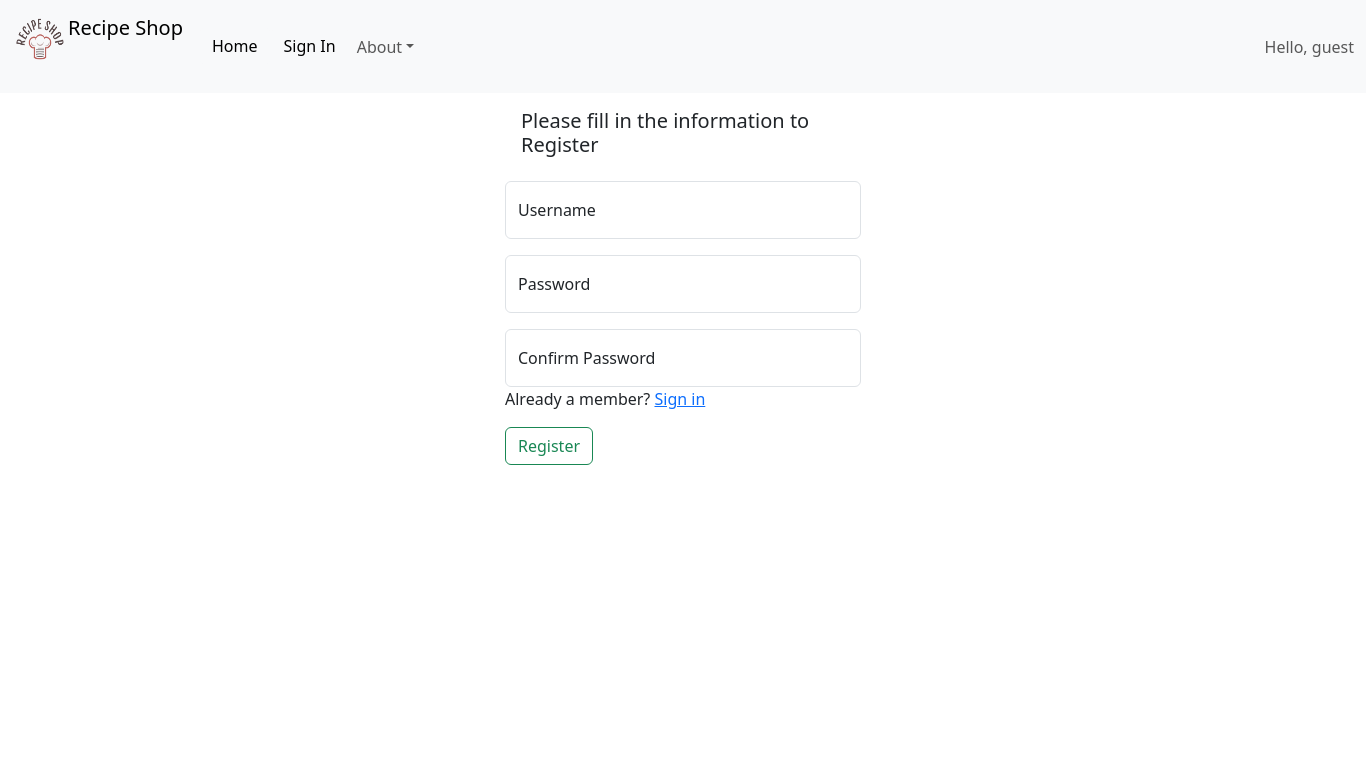
Test: Register page UI functionality › Repeated username cannot be registered
Type "Hello123" into the field with test id "r_username". click: point(683, 210)
box: x1=505 y1=181 x2=861 y2=239
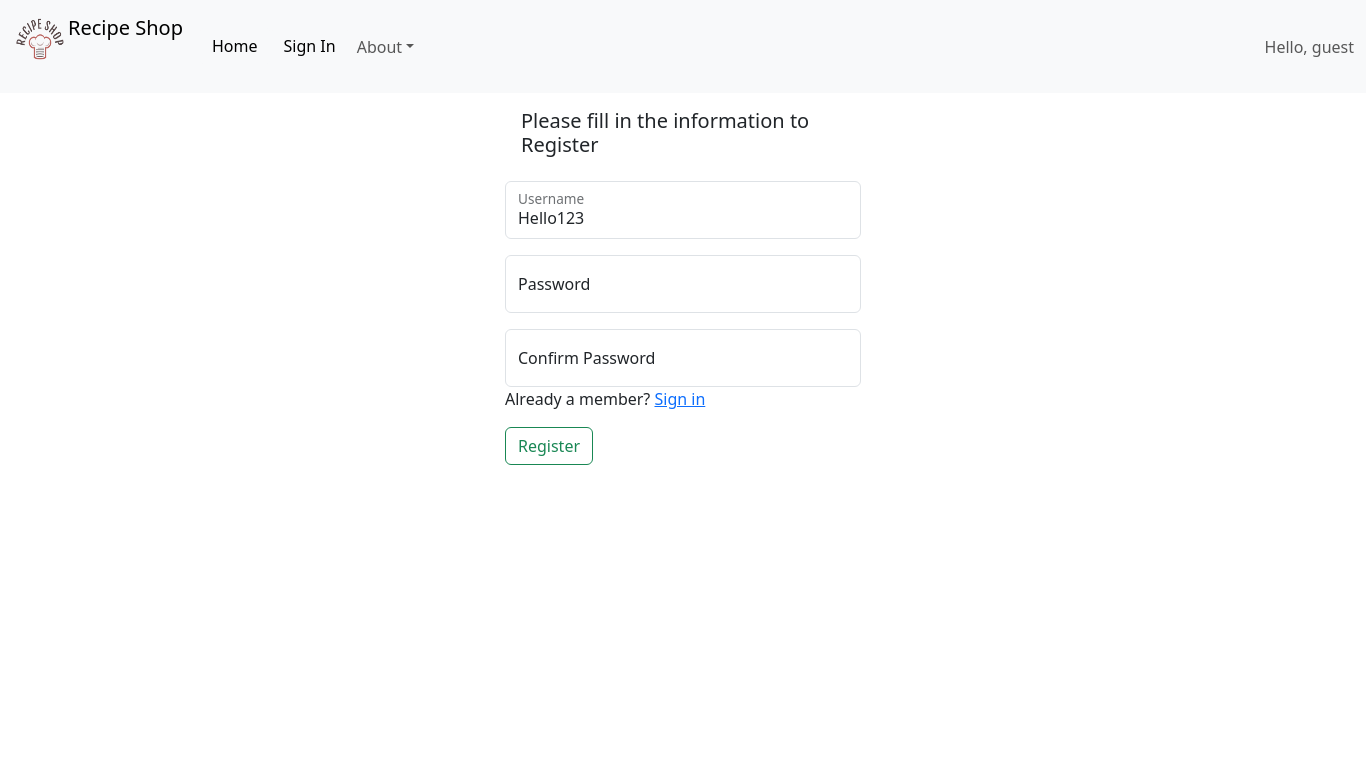
Type "Hello123" into the password field with test id "r_password". click: point(683, 284)
box: x1=505 y1=255 x2=861 y2=313
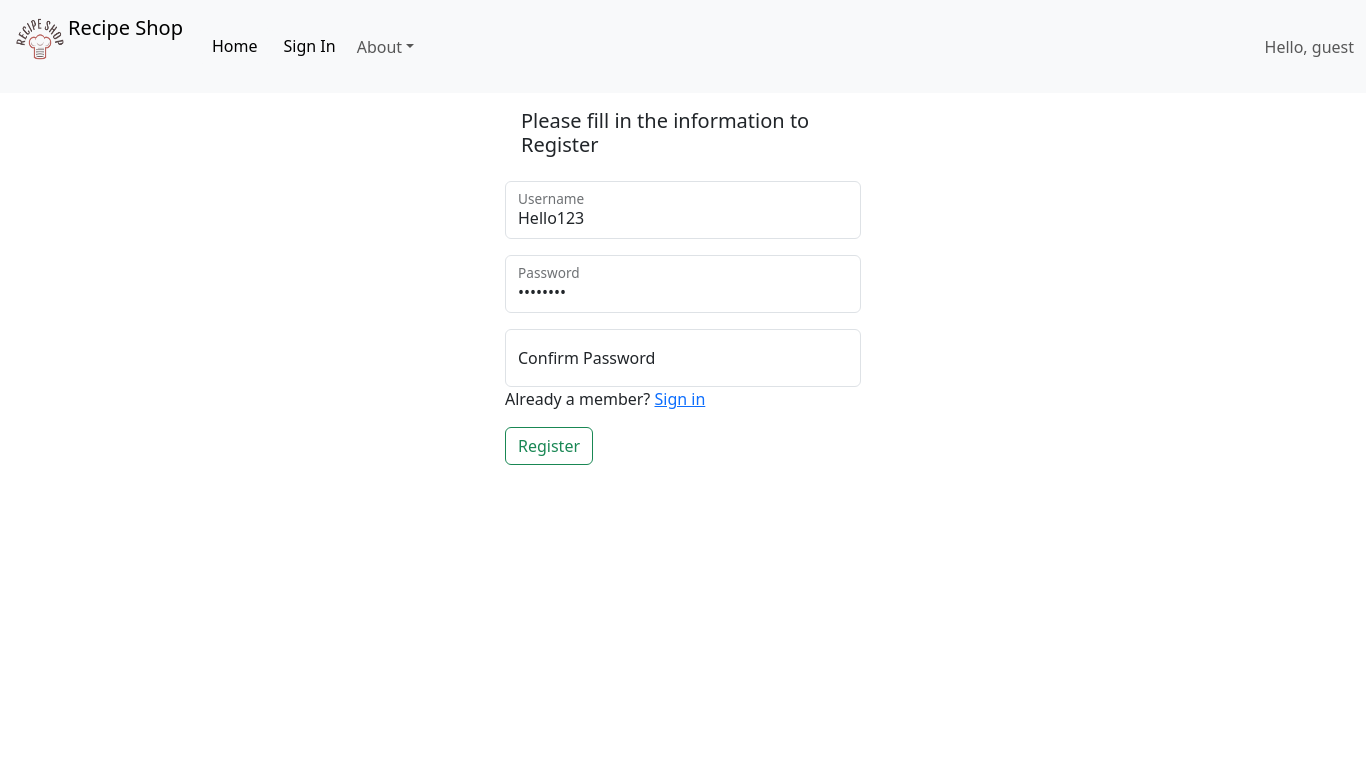
Type "Hello123" into the password field with test id "repeat_password". click: point(683, 358)
box: x1=505 y1=329 x2=861 y2=387
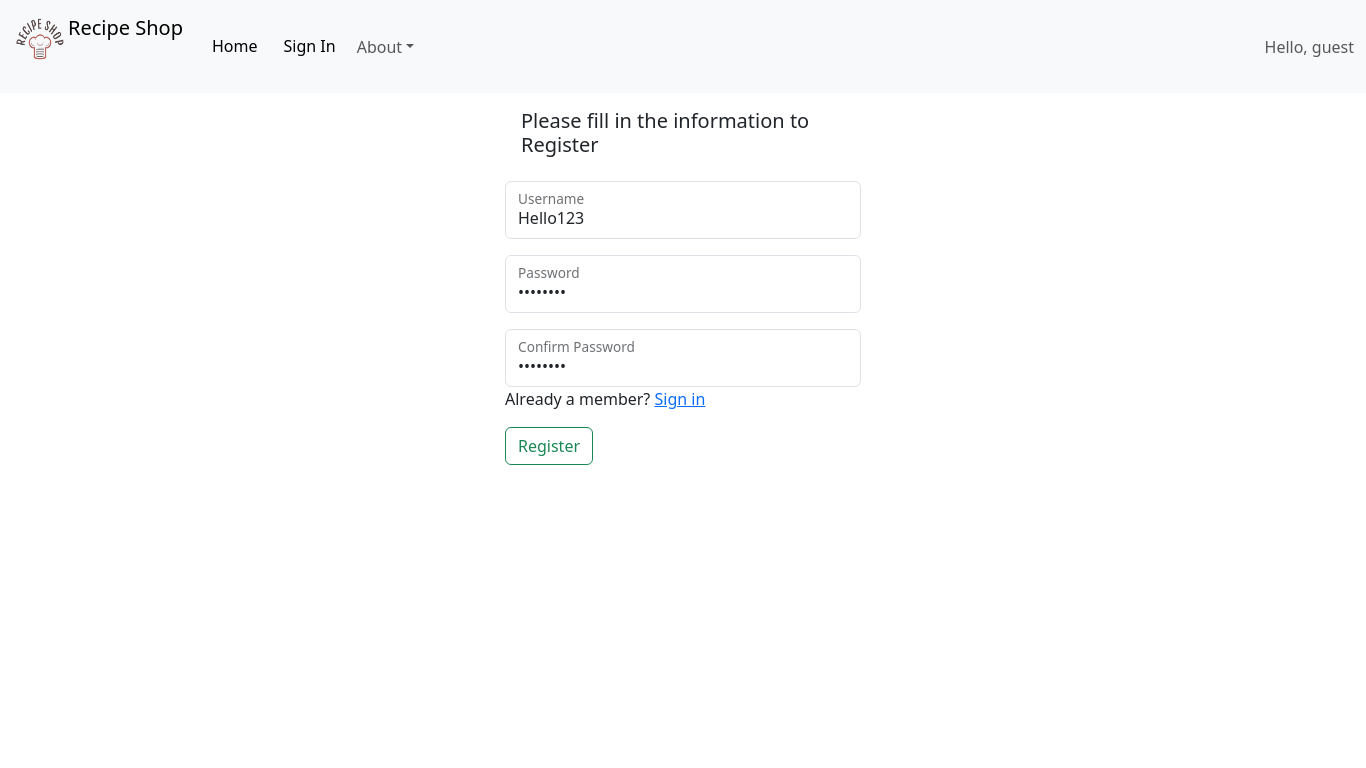
Click the button "Register". click: point(549, 446)
box: x1=505 y1=427 x2=593 y2=465
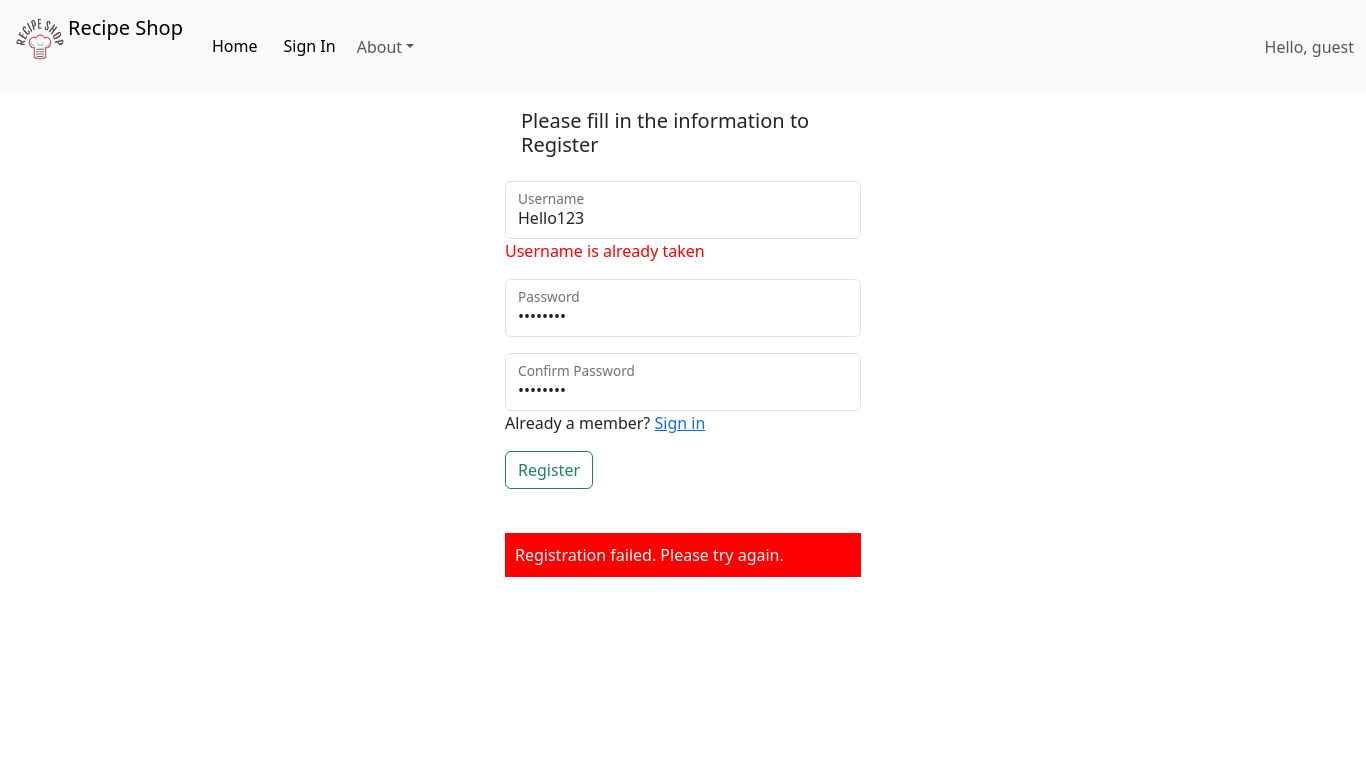
Expected: the text "Username is already taken" is shown, x1=505 y1=240 x2=705 y2=262
Click the button "Register". click: point(549, 470)
box: x1=505 y1=451 x2=593 y2=489
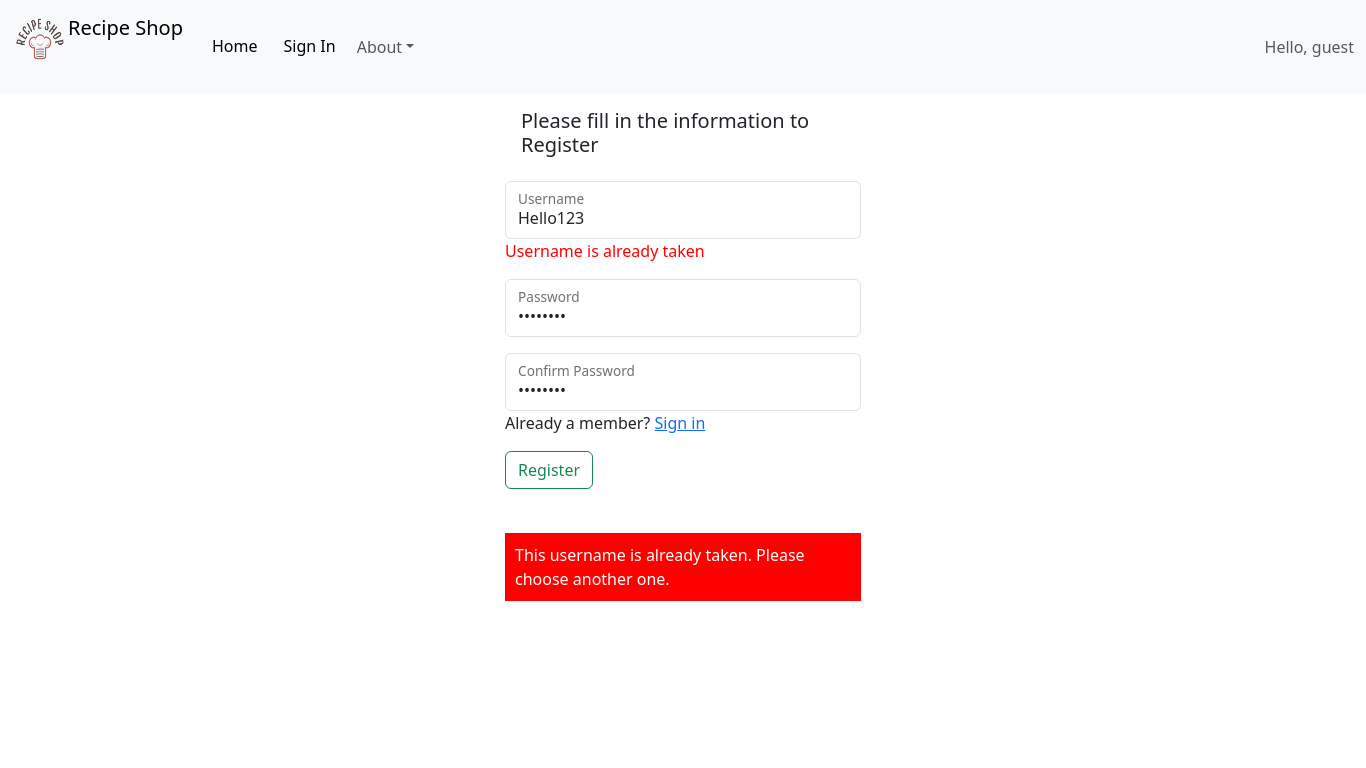
Expected: the text "This username is already taken. Please choose another one." is shown, x1=505 y1=533 x2=861 y2=601
